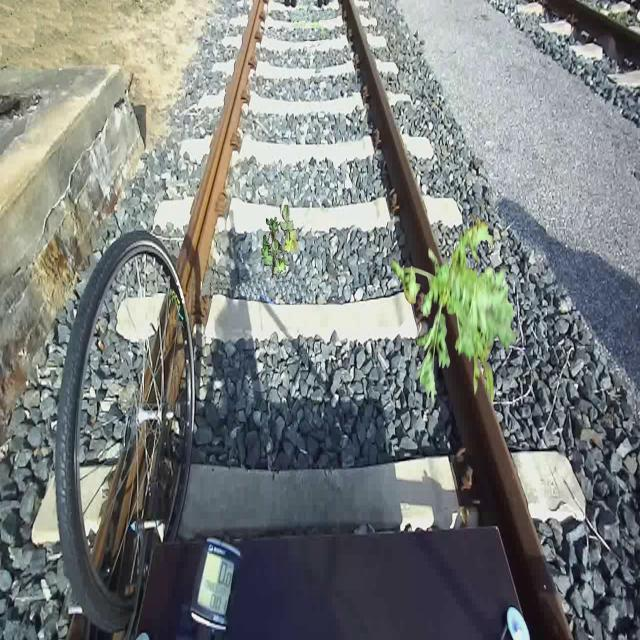Plant: (392, 213, 517, 409), (261, 204, 298, 278)
